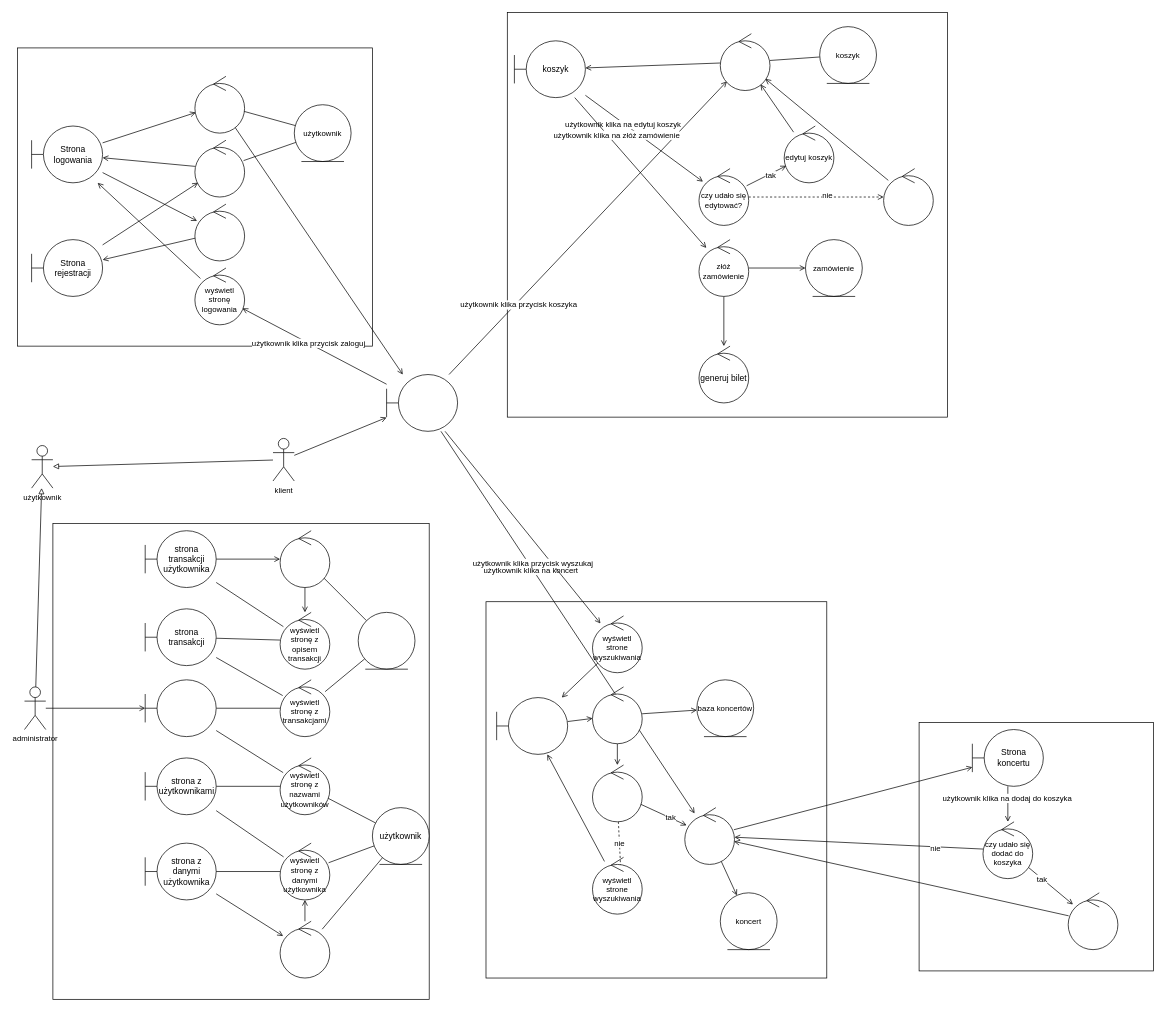
This 1166x1012 diagram has some shape labels left out. Here are the shapes that lost their labels. From the top down, the centre of each, then its label:
At point 745,62: "wyświetl koszyk".
At point 219,104: "zaloguj się".
At point 219,168: "zarejestruj się".
At point 908,196: "wyświetl błąd".
At point 219,232: "wyświetl stronę rejestracji".
At point 422,402: "strona główna".
At point 304,559: "edytuj transakcje".
At point 386,640: "transakcja".
At point 180,708: "strona administratora".
At point 532,725: "strona wyszukiwania".
At point 617,715: "szukaj koncertu".
At point 617,793: "koncert znaleziony?".
At point 709,835: "wyświetl strone koncertu".
At point 1092,921: "dodaj do koszyka".
At point 304,949: "edytuj dane użytkownika".
